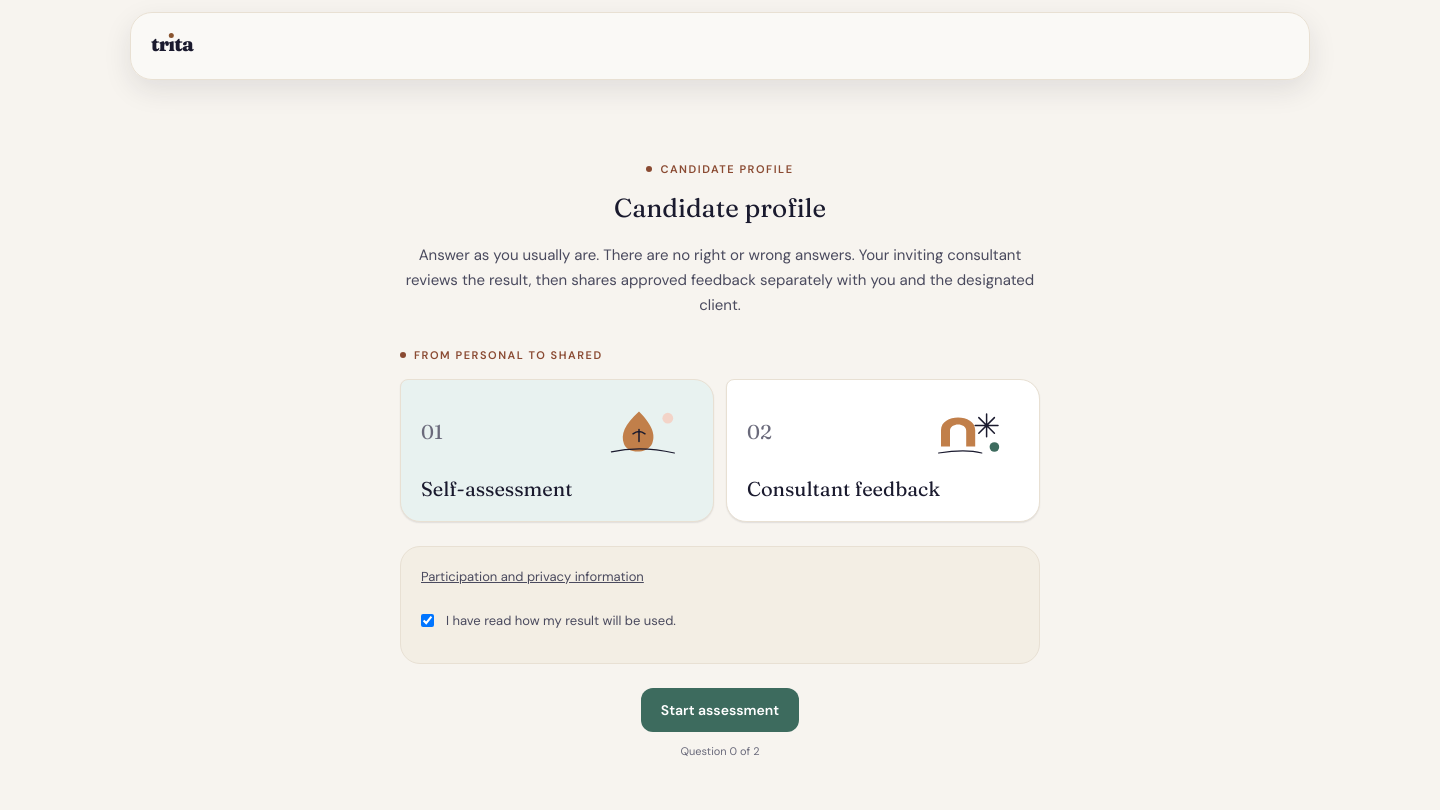
Scenario: does not mark a failed save as saved or permit completing a stale draft
Step 1. Click the button "Start assessment" → {"x": 720, "y": 710}, box [641,688,799,732]
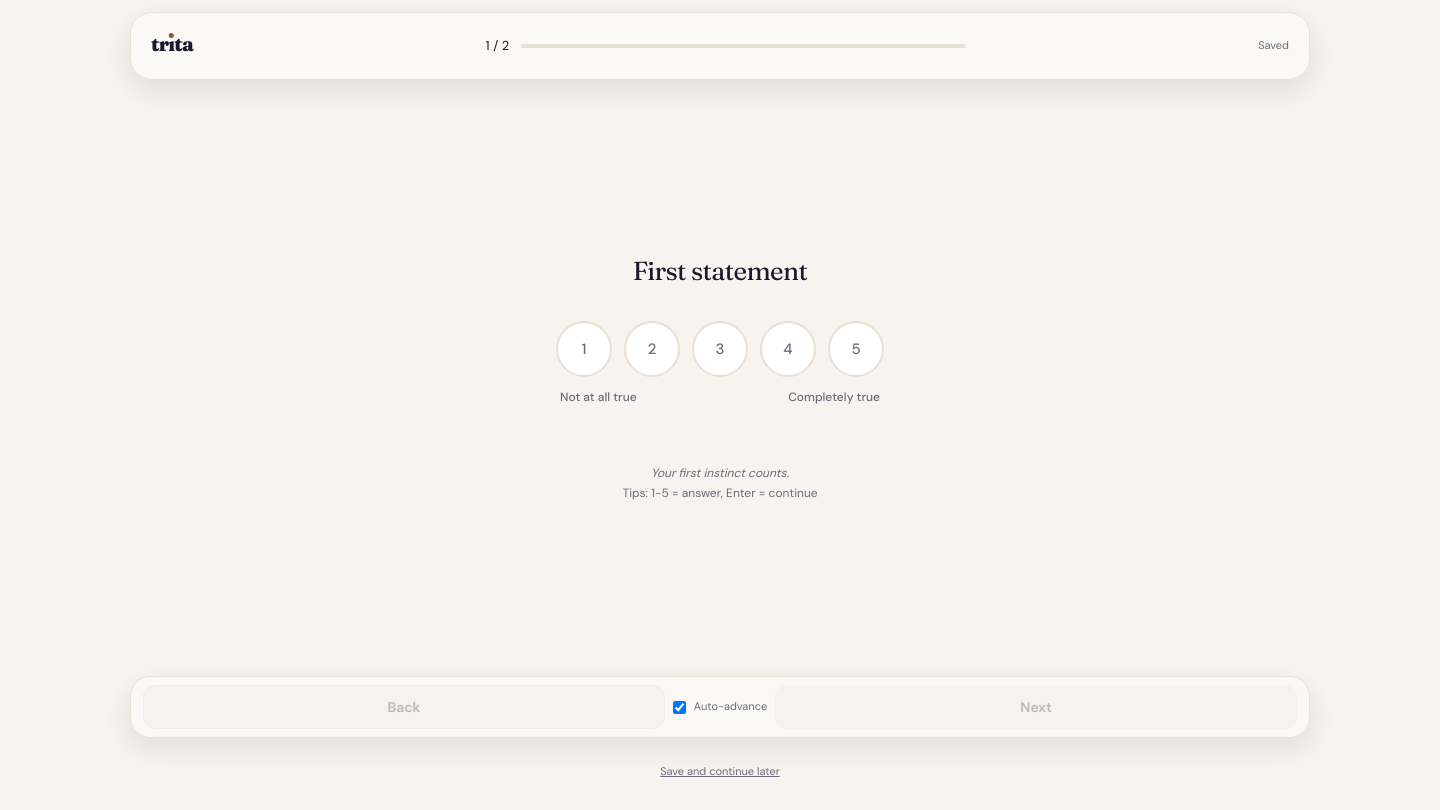
Expected: the header with test id "assessment-focus-header" is shown, [130,12,1310,80]
Step 2. Click the radio button named "3 -" → {"x": 720, "y": 349}, box [692,321,748,377]
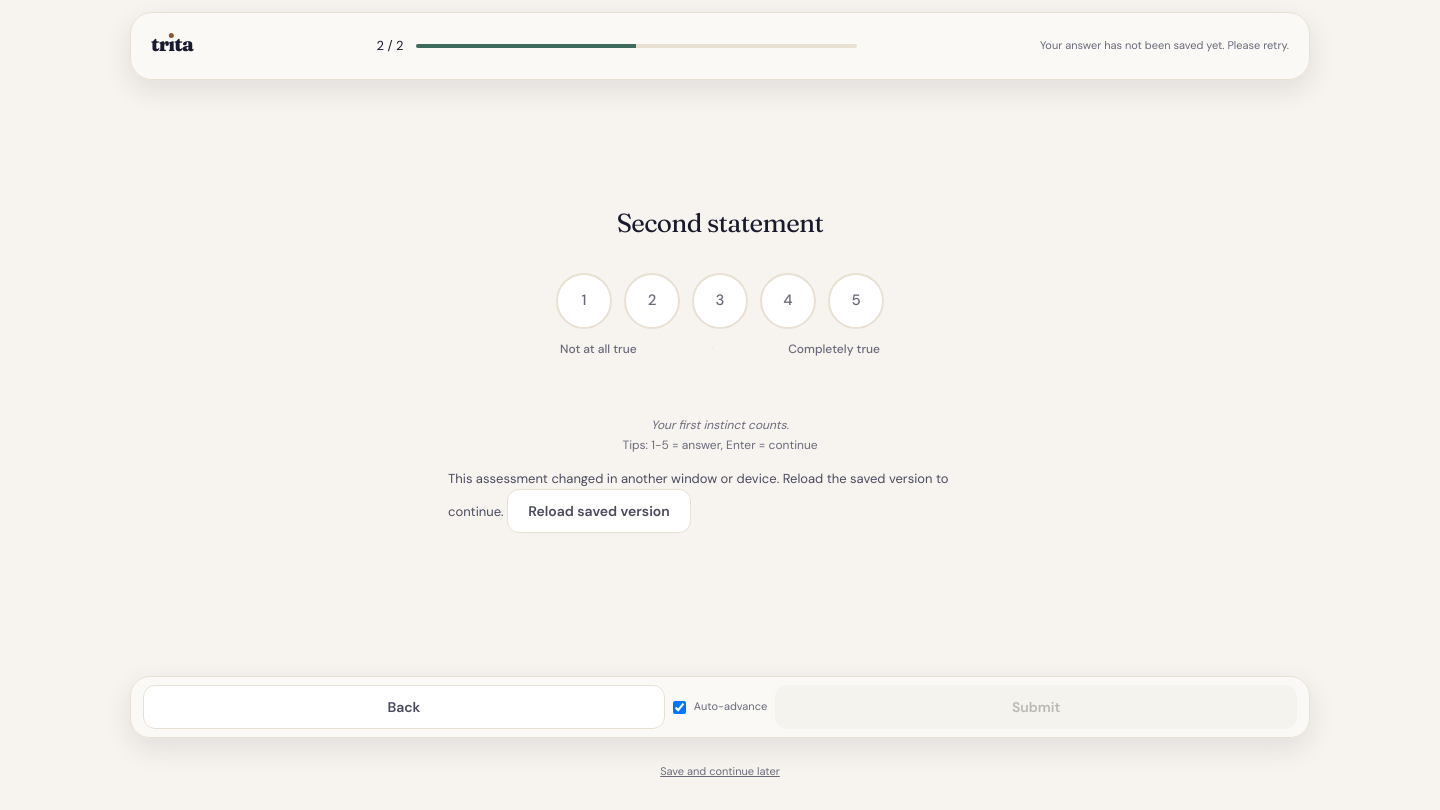
Result: the button "Submit" is disabled at [775,685,1297,729]
Result: the 2nd message shows "another window or device" at [448,470,949,520]
